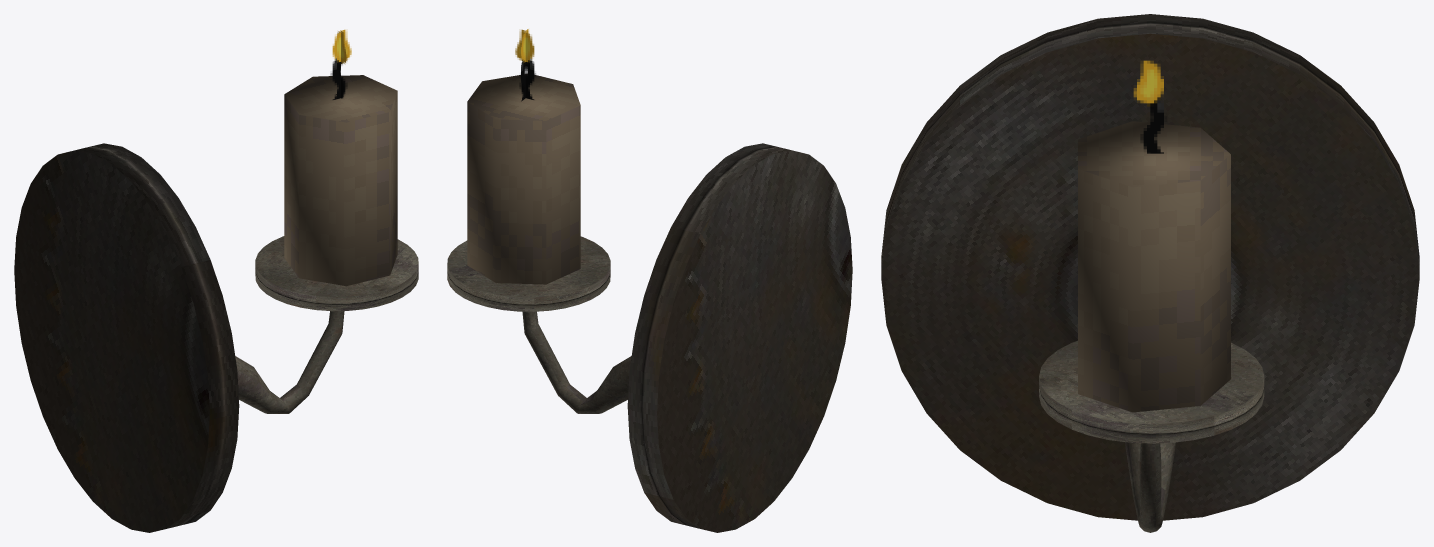
The model's file is WallCandle.glb.
3 renders of one model, left to right at view 1: azimuth 30°, elevation 25°; view 2: azimuth 150°, elevation 25°; view 3: azimuth 270°, elevation 25°, orthographic. The views are drawn at different scales.
Visible parts, largest first — view 1: Cylinder, Cylinder.003, Cylinder.002, Cylinder.001, Plane; view 2: Cylinder, Cylinder.003, Cylinder.002, Cylinder.001, Plane; view 3: Cylinder, Cylinder.003, Cylinder.002, Cylinder.001, Plane.001.
Boxes of the visible parts, x1,y1,x2,y2 form: Cylinder: [14, 143, 239, 532]; Cylinder.003: [284, 75, 397, 286]; Cylinder.002: [255, 236, 418, 311]; Cylinder.001: [235, 311, 344, 413]; Plane: [330, 29, 351, 99]; Cylinder: [627, 143, 852, 532]; Cylinder.003: [467, 74, 580, 284]; Cylinder.002: [447, 236, 610, 311]; Cylinder.001: [522, 311, 631, 413]; Plane: [515, 29, 535, 99]; Cylinder: [881, 14, 1419, 520]; Cylinder.003: [1078, 121, 1230, 412]; Cylinder.002: [1039, 340, 1264, 443]; Cylinder.001: [1125, 442, 1175, 532]; Plane.001: [1133, 60, 1166, 153].
Size of the model in its own units: 0.8086 by 1.13 by 0.9247.
4 materials, 4 textured.
